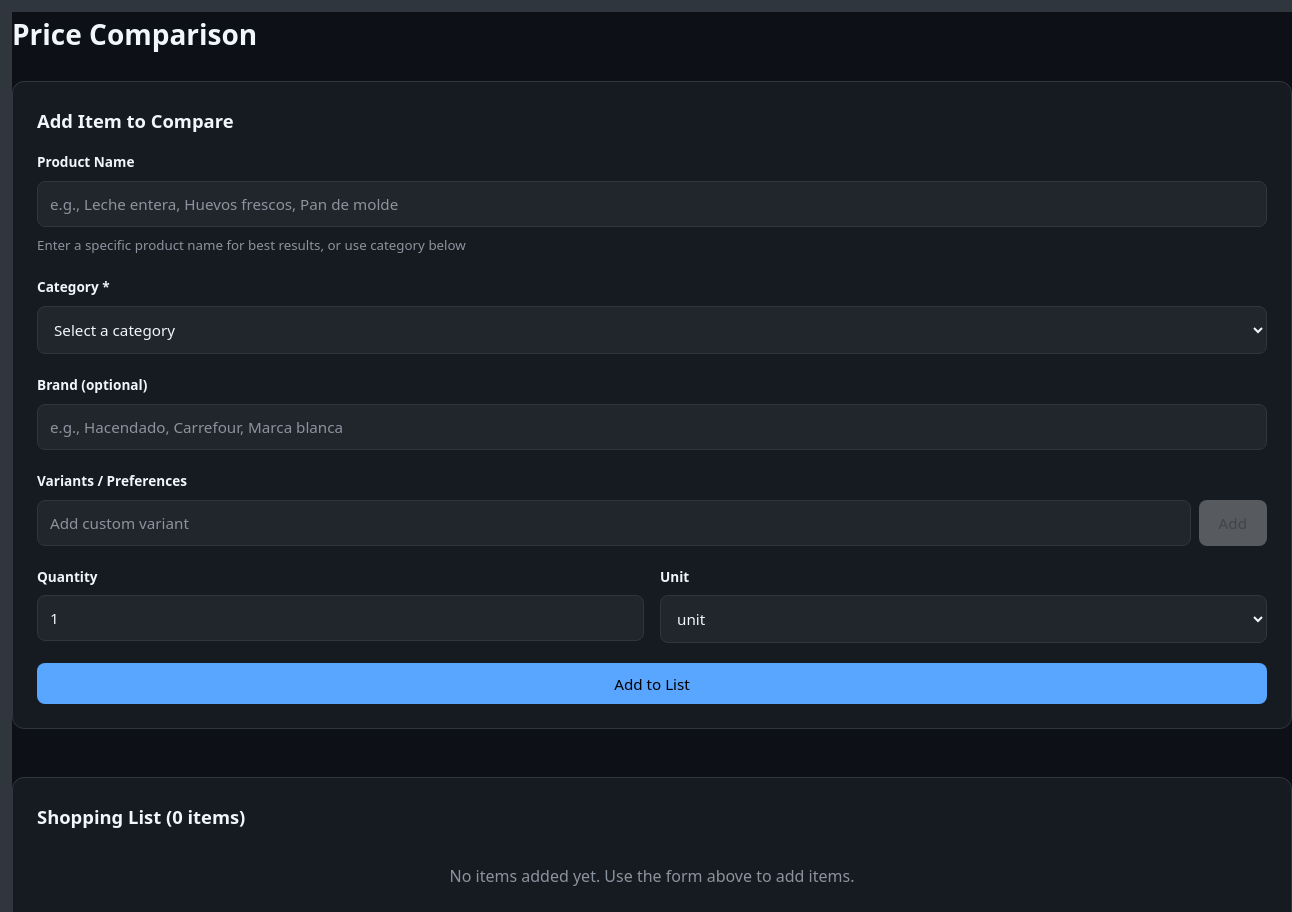
Test: ComparisonPage › Shopping List Display › allows removing items from list
// Add an item
Select "Dairy" in the dropdown labelled "Category *": point(652, 330) [37,306,1267,354]
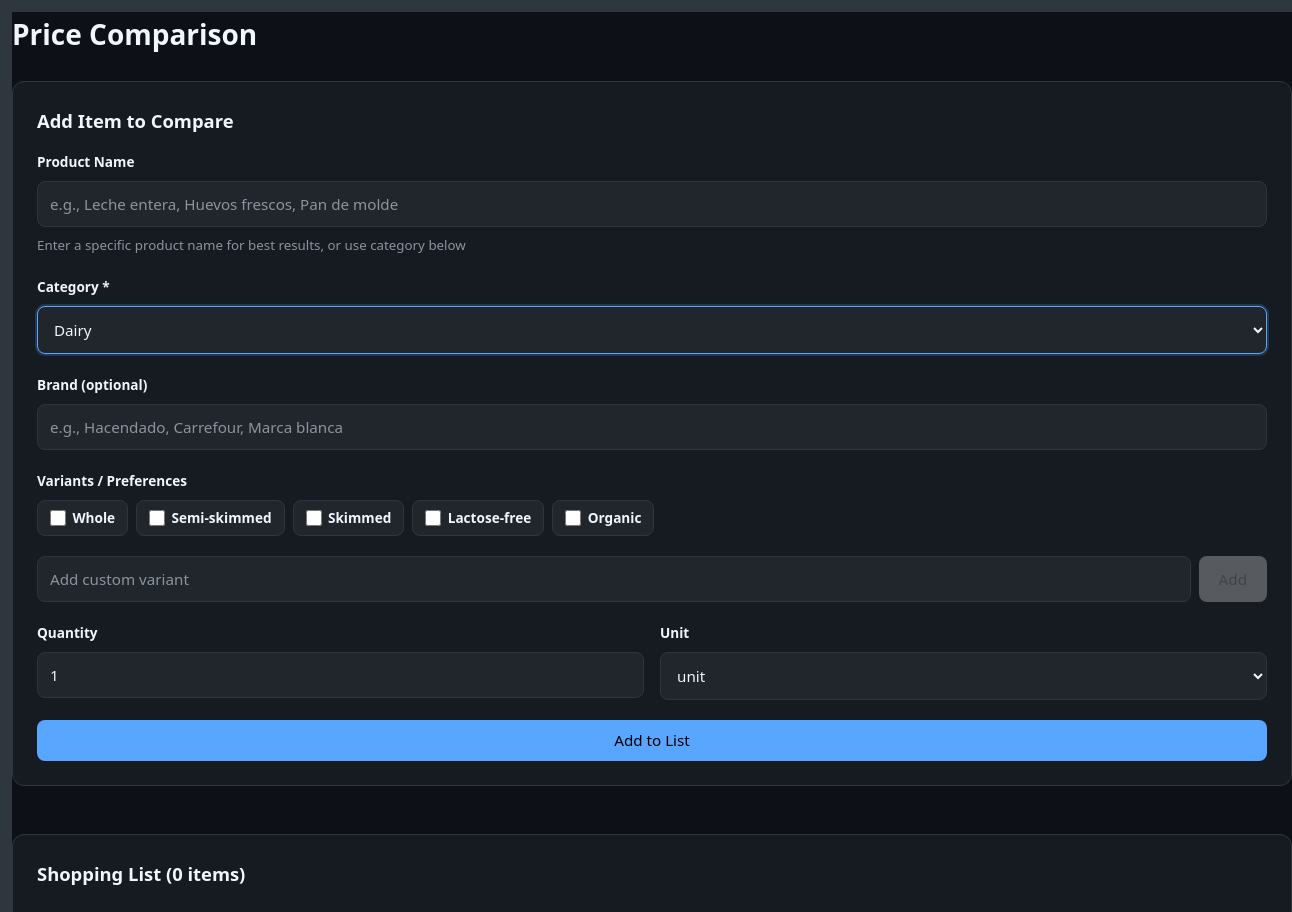
Click the button "Add to List": point(652, 740) [37,720,1267,761]
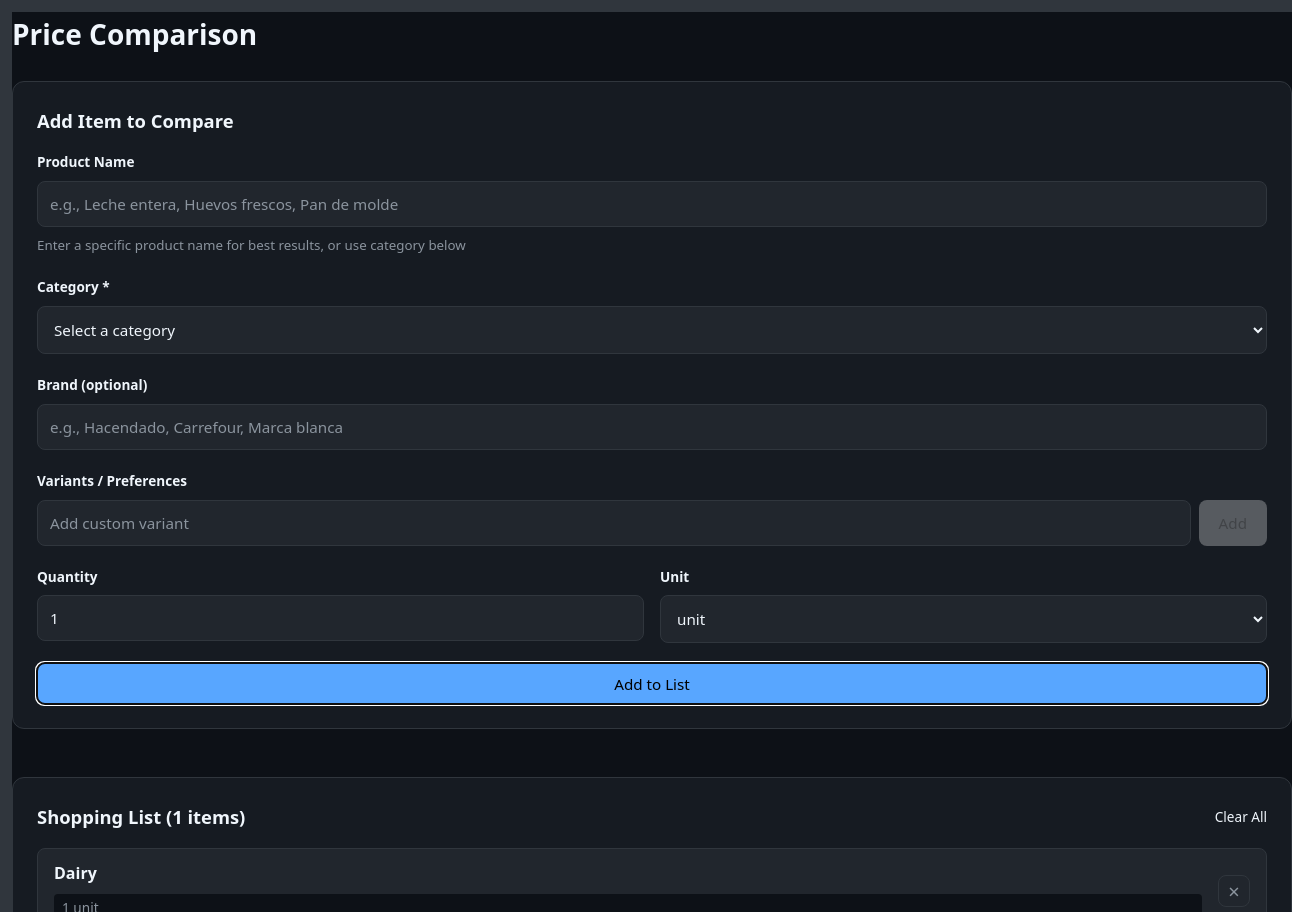
// Find and click remove button
Click the button named "remove item": point(1234, 891) [1218,875,1250,907]
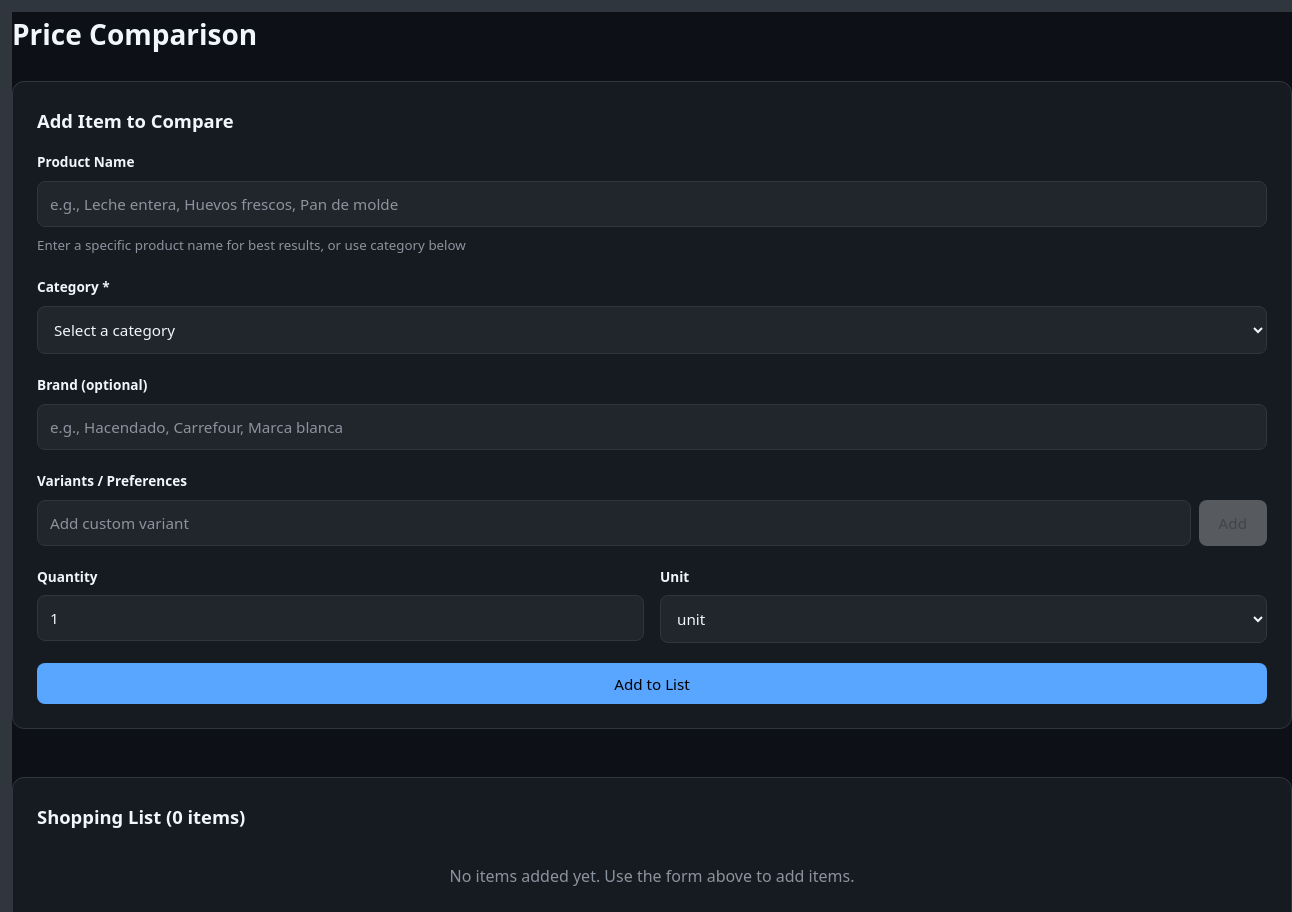
Expected: the text "No items added yet. Use the form above to add items." is shown, [450,864,854,886]
